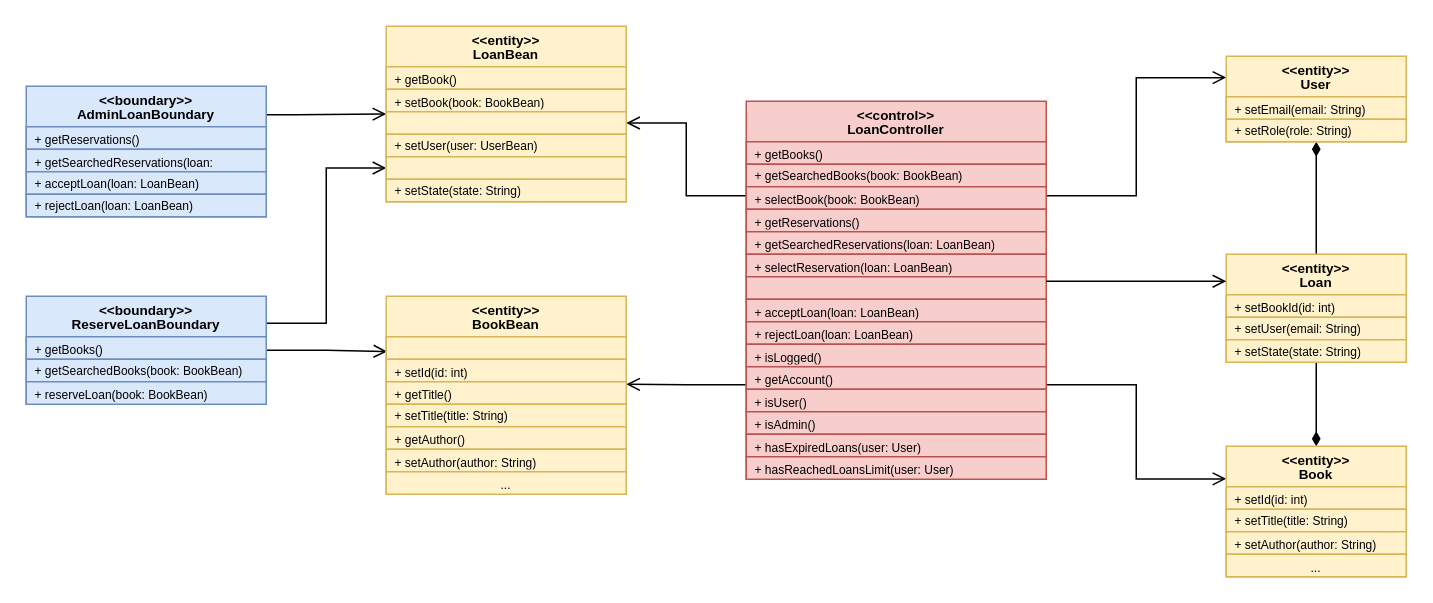
The diagram is 1433 pixels wide and 603 high, and some of its shapes have lost their labels. The shapes that lost their labels are listed below. From the top down, each one's centre as x and y in pixels, then its label:
At point (505, 122): "+ getUser()".
At point (505, 167): "+ getState()".
At point (895, 287): "+ reserveLoan(loan: loanBean)".
At point (505, 347): "+ getId()".
